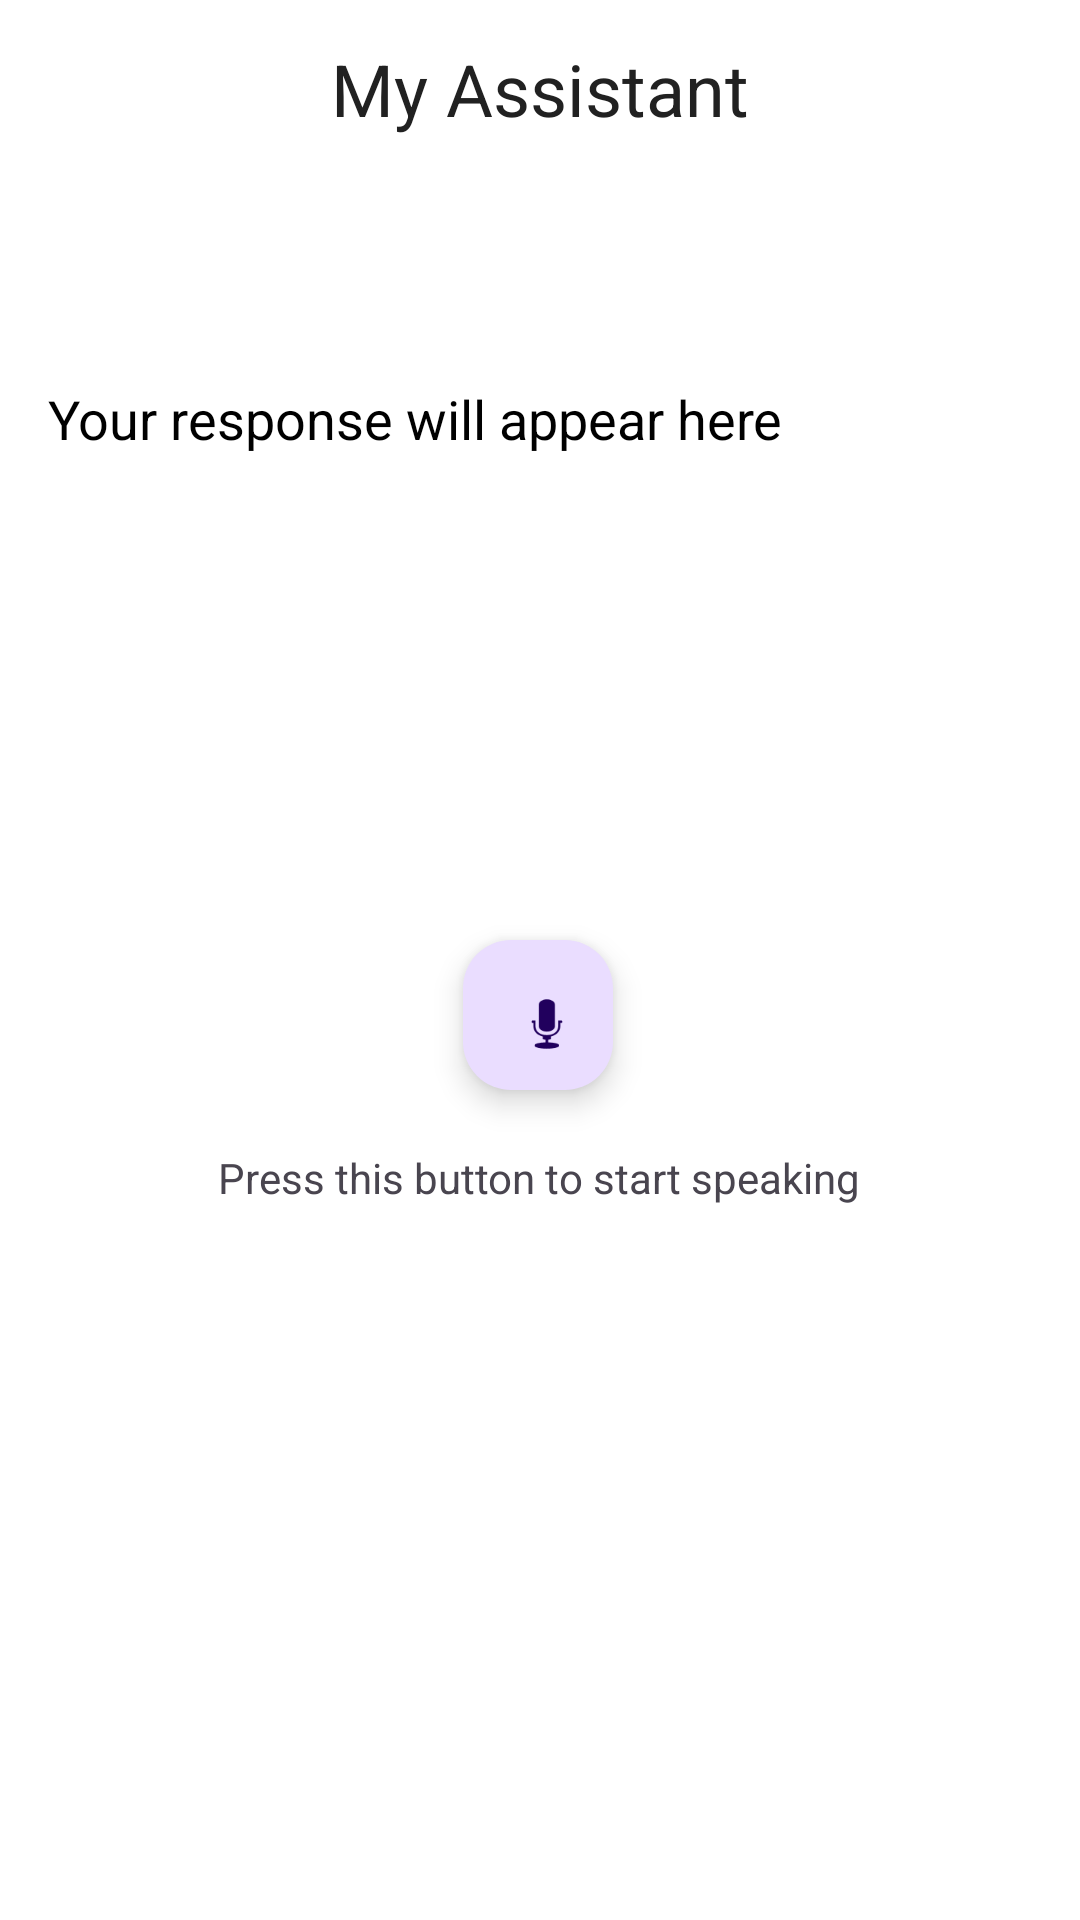

Screen size 1080px×1920px. Icon name, then its center in pixels as [x,y]:
speak now: [538,1015]
